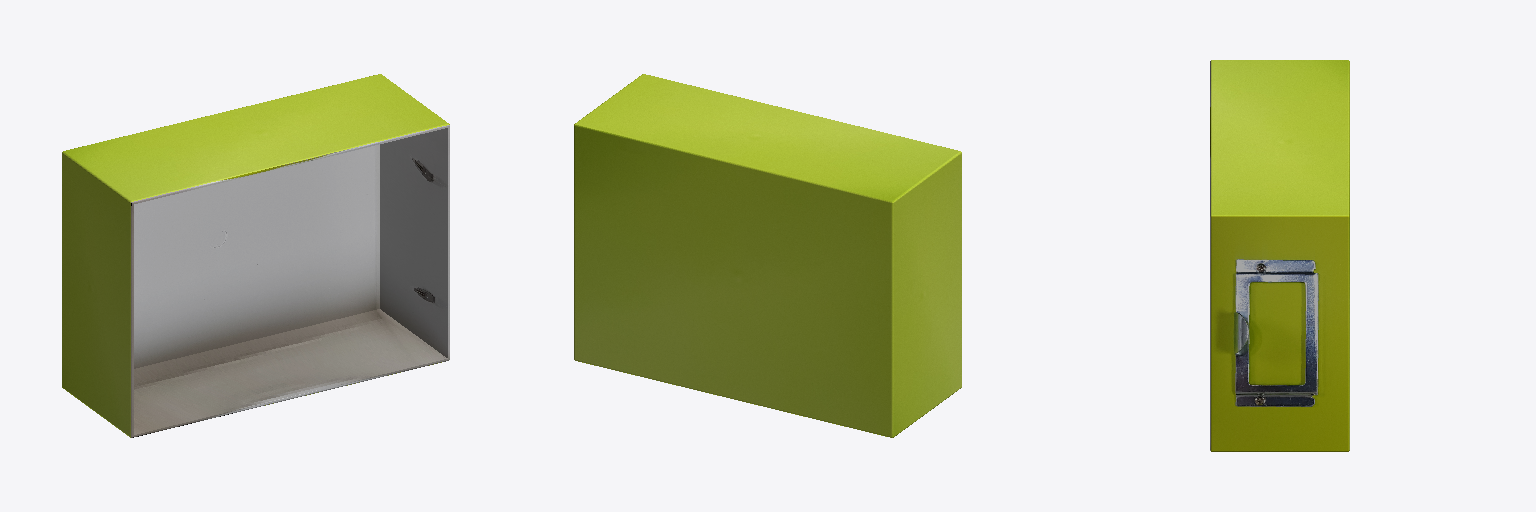
3 views of the same model, side by side, from view 1: azimuth 30°, elevation 25°; view 2: azimuth 150°, elevation 25°; view 3: azimuth 270°, elevation 25° (orthographic).
Size of the model in its own units: 0.175 by 0.124 by 0.066.
Materials: 1 (1 with a texture image).